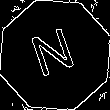N_S: (28, 25, 82, 85)
